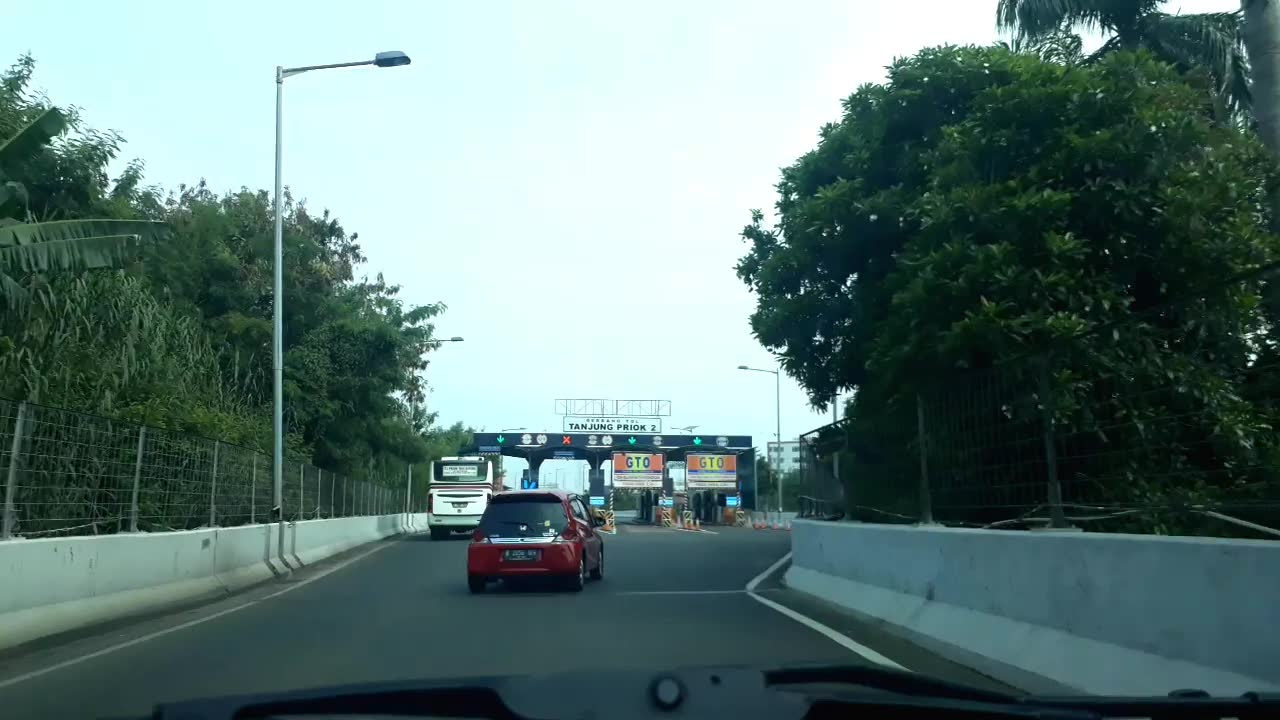plate_positive: (502, 549, 538, 562)
